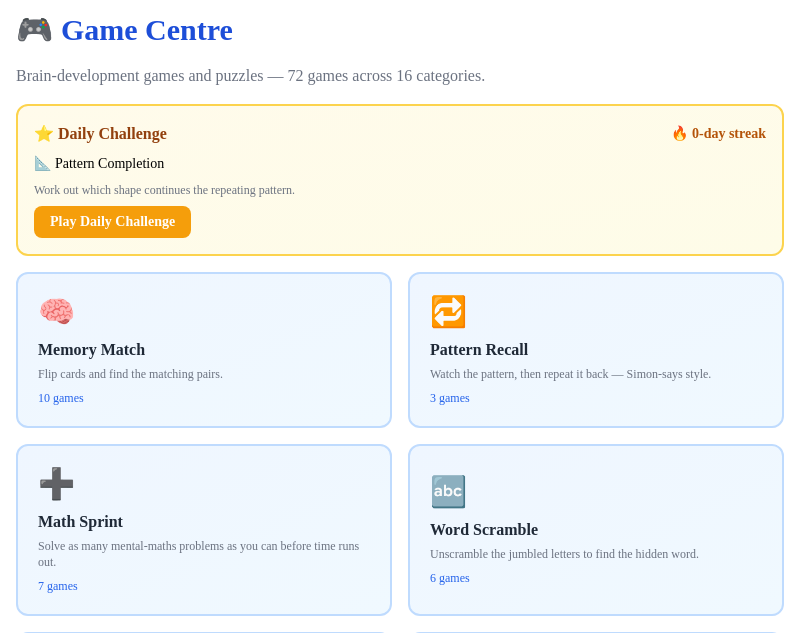
Test: Games (Game Centre) › shows the Daily Challenge banner and can jump straight into playing it
expect the heading "⭐ Daily Challenge" is shown: met, box [34,122,167,146]
expect the text "🔥 0-day streak" is shown: met, box [671,124,766,144]
Click the button "Play Daily Challenge": (113, 222) [34,206,191,238]
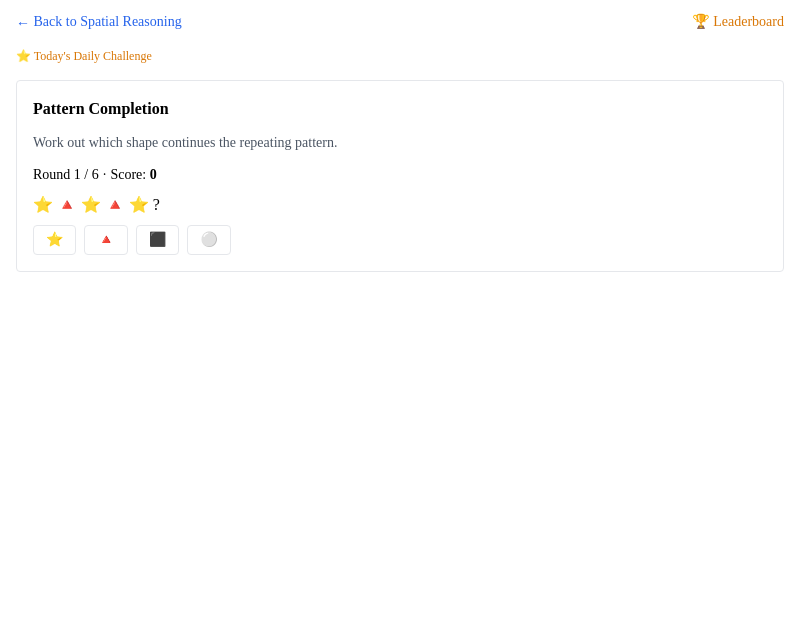
expect the text "⭐ Today's Daily Challenge" is shown: met, box [16,49,152,63]
